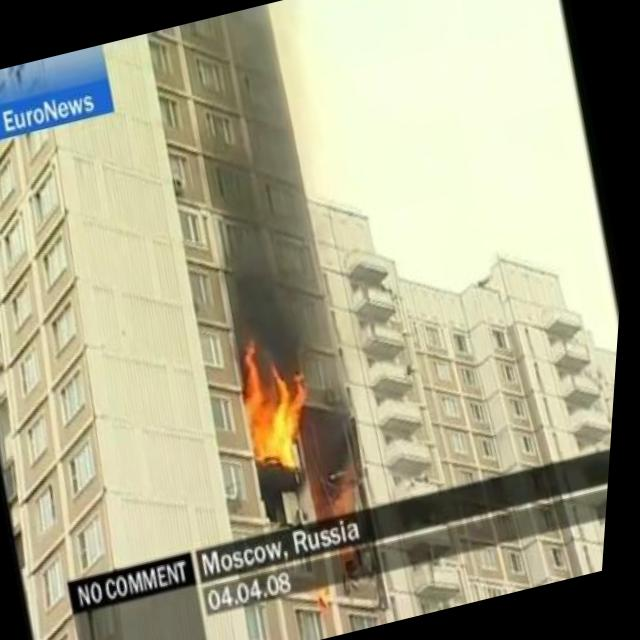fire: (230, 328, 331, 472), (328, 474, 378, 518)
